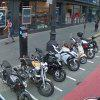Motorcycle: (3, 54, 63, 100)
